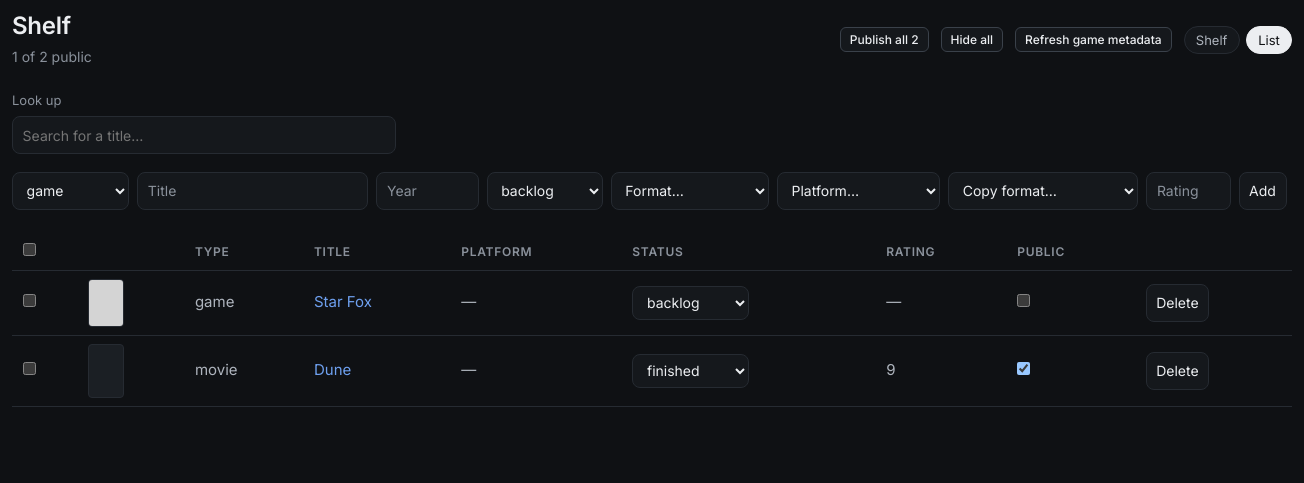
Test case: AdminCollection bulk set › applies nothing until a change is chosen
Click the checkbox named "Select Dune".
click(30, 369)  # box [23,362,36,375]
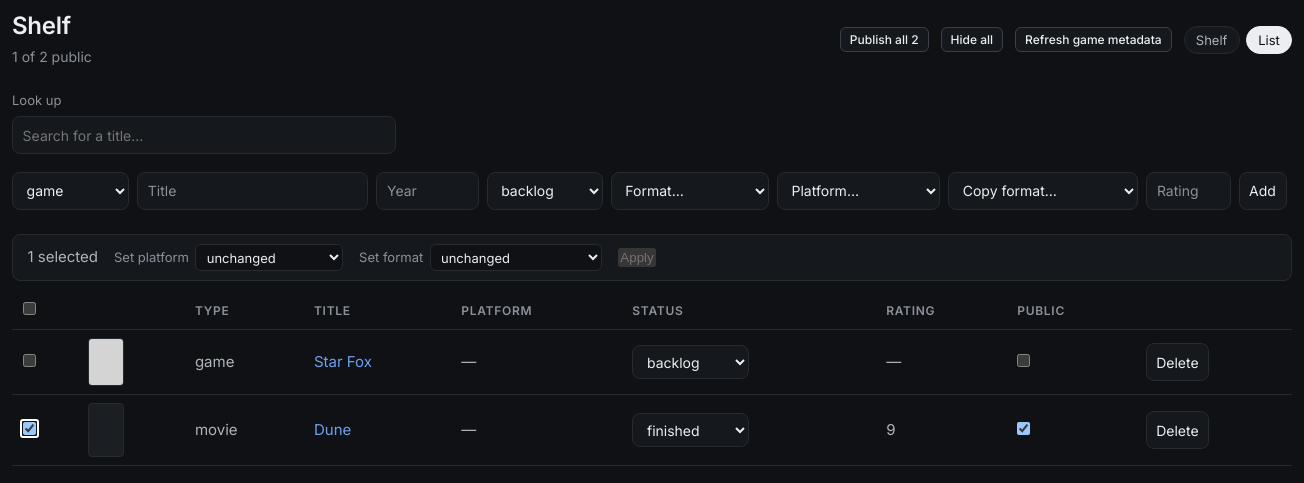
Now the button "Apply" is disabled, box [618,248,656,267]
